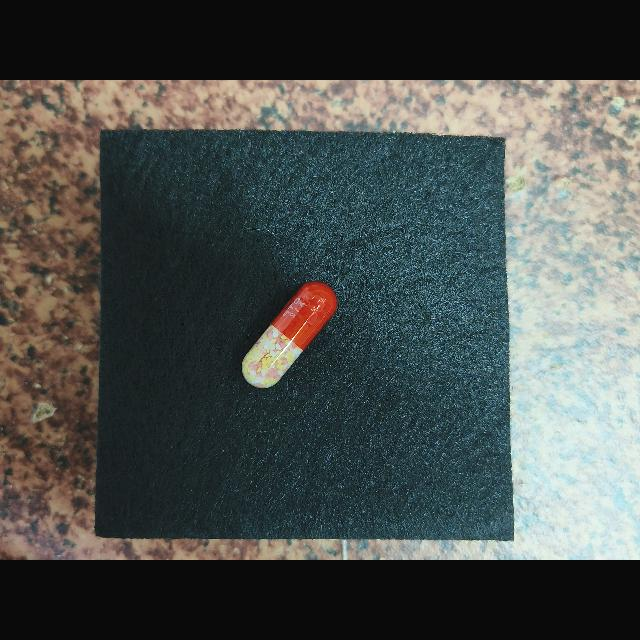Intact Capsule: (242, 281, 337, 388)
